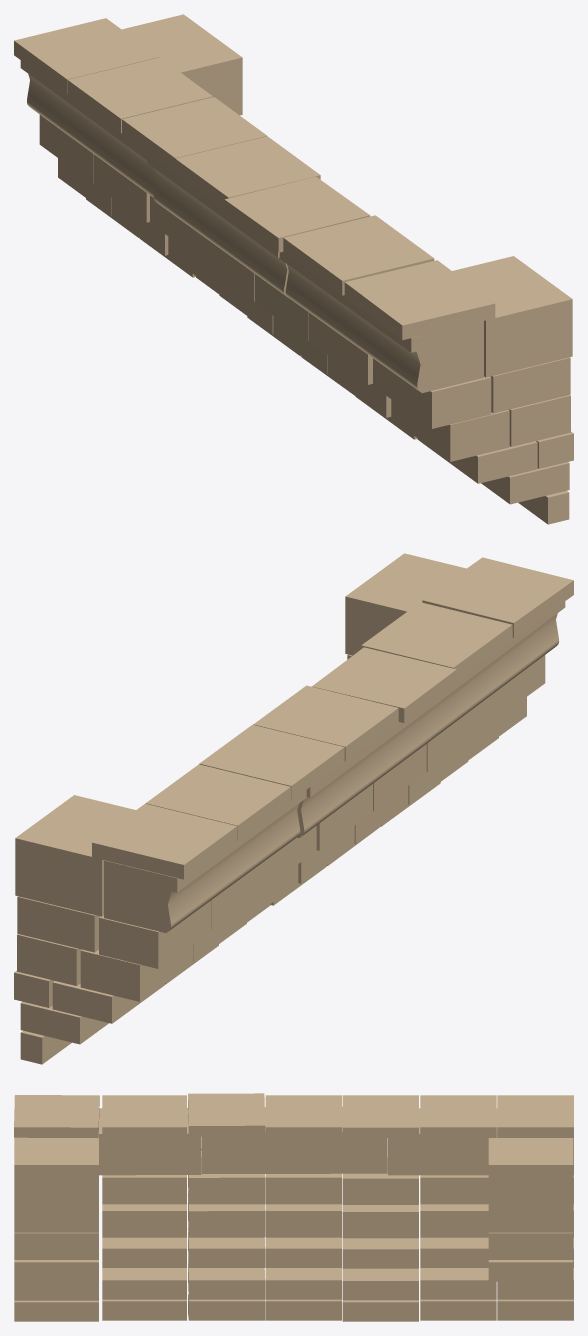
Rendered from egypt_roadwall.fbx.
3 renders of one model, top to bottom at view 1: azimuth 30°, elevation 25°; view 2: azimuth 150°, elevation 25°; view 3: azimuth 270°, elevation 25°, orthographic. The views are drawn at different scales.
Parts seen in each view (by area): view 1: pCube210; view 2: pCube210; view 3: pCube210.
Part boxes in pixels (left/top/right/bottom): pCube210: left=14, top=14, right=573, bottom=524; pCube210: left=14, top=553, right=573, bottom=1064; pCube210: left=14, top=1093, right=573, bottom=1321.
Size of the model in its own units: 3.19 by 4.07 by 12.27.
